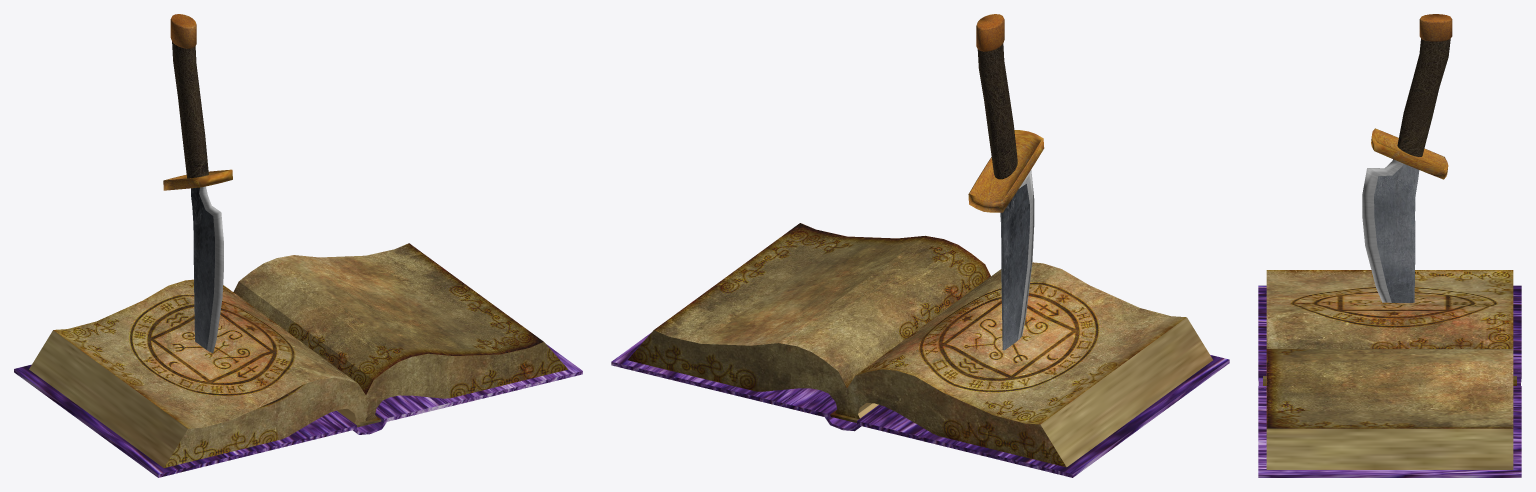
The model's file is RITUALStabbed_Grimoire.fbx.
The picture shows the model from 3 angles, left to right: view 1: azimuth 30°, elevation 25°; view 2: azimuth 150°, elevation 25°; view 3: azimuth 270°, elevation 25°; orthographic projection. The views are drawn at different scales.
Parts seen in each view (by area): view 1: Cylinder.001, Cylinder.003, Cylinder.005, Cylinder, Cylinder.004, Cylinder.006; view 2: Cylinder.001, Cylinder.003, Cylinder, Cylinder.004, Cylinder.005, Cylinder.006; view 3: Cylinder.001, Cylinder.003, Cylinder, Cylinder.005, Cylinder.004, Cylinder.006.
Boxes of the visible parts, left/top/right/bottom form: Cylinder.001: left=29, top=243, right=567, bottom=467; Cylinder.003: left=14, top=344, right=582, bottom=477; Cylinder.005: left=172, top=41, right=208, bottom=178; Cylinder: left=191, top=187, right=214, bottom=349; Cylinder.004: left=163, top=14, right=232, bottom=190; Cylinder.006: left=199, top=186, right=223, bottom=353; Cylinder.001: left=627, top=223, right=1212, bottom=467; Cylinder.003: left=611, top=332, right=1229, bottom=477; Cylinder: left=1000, top=184, right=1029, bottom=350; Cylinder.004: left=968, top=14, right=1044, bottom=212; Cylinder.005: left=977, top=43, right=1017, bottom=179; Cylinder.006: left=1018, top=170, right=1034, bottom=340; Cylinder.001: left=1266, top=270, right=1513, bottom=469; Cylinder.003: left=1258, top=285, right=1521, bottom=477; Cylinder: left=1374, top=163, right=1419, bottom=302; Cylinder.005: left=1397, top=38, right=1450, bottom=156; Cylinder.004: left=1371, top=14, right=1452, bottom=179; Cylinder.006: left=1362, top=159, right=1403, bottom=302.
Bounding box in the file's own units: 1704 × 1397 × 1003.
